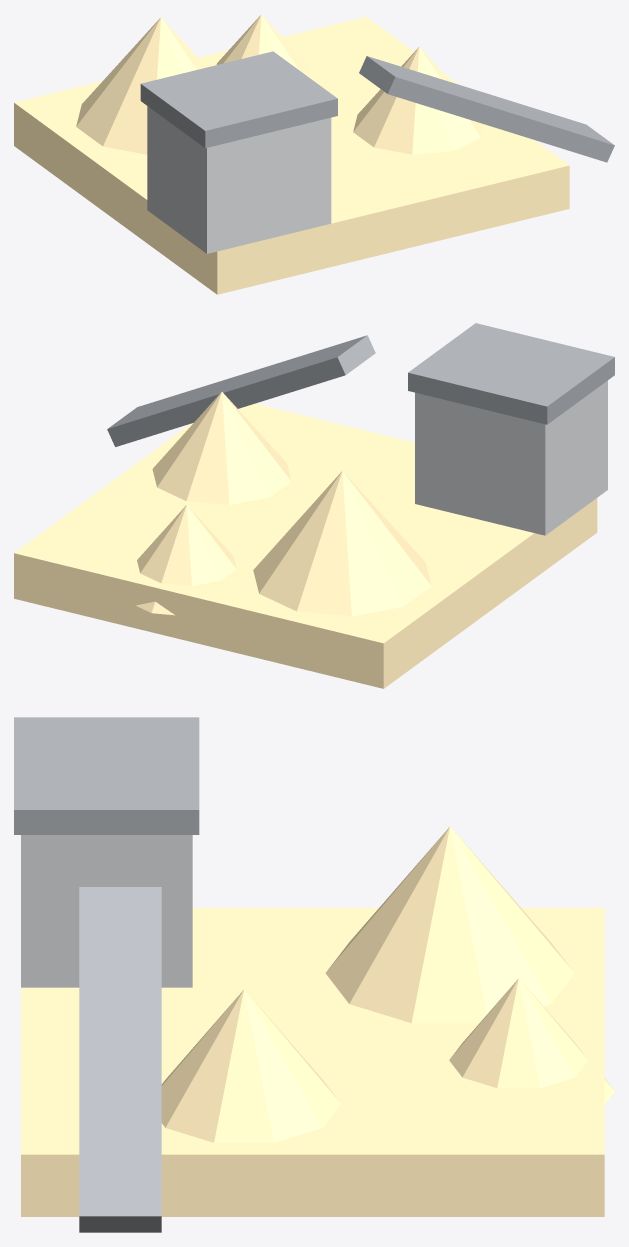
The model's file is sandpit.glb.
The picture shows the model from 3 angles, top to bottom: view 1: azimuth 30°, elevation 25°; view 2: azimuth 150°, elevation 25°; view 3: azimuth 270°, elevation 25°; orthographic projection. The views are drawn at different scales.
Visible parts, largest first — view 1: sandpit; view 2: sandpit; view 3: sandpit.
Boxes of the visible parts, bbox=[...] form: sandpit: bbox=[14, 14, 614, 294]; sandpit: bbox=[14, 323, 614, 688]; sandpit: bbox=[14, 717, 614, 1232].
Bounding box in the file's own units: 1.04 × 0.39 × 0.875.
